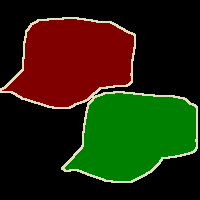hat: (62, 92, 197, 182), (1, 18, 135, 108)
